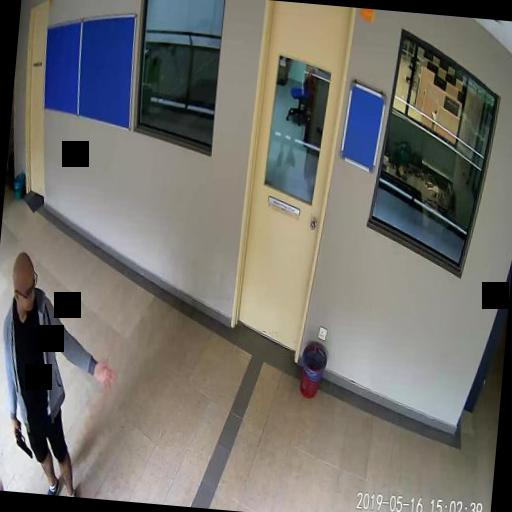Handgun: (11, 418, 34, 456)
